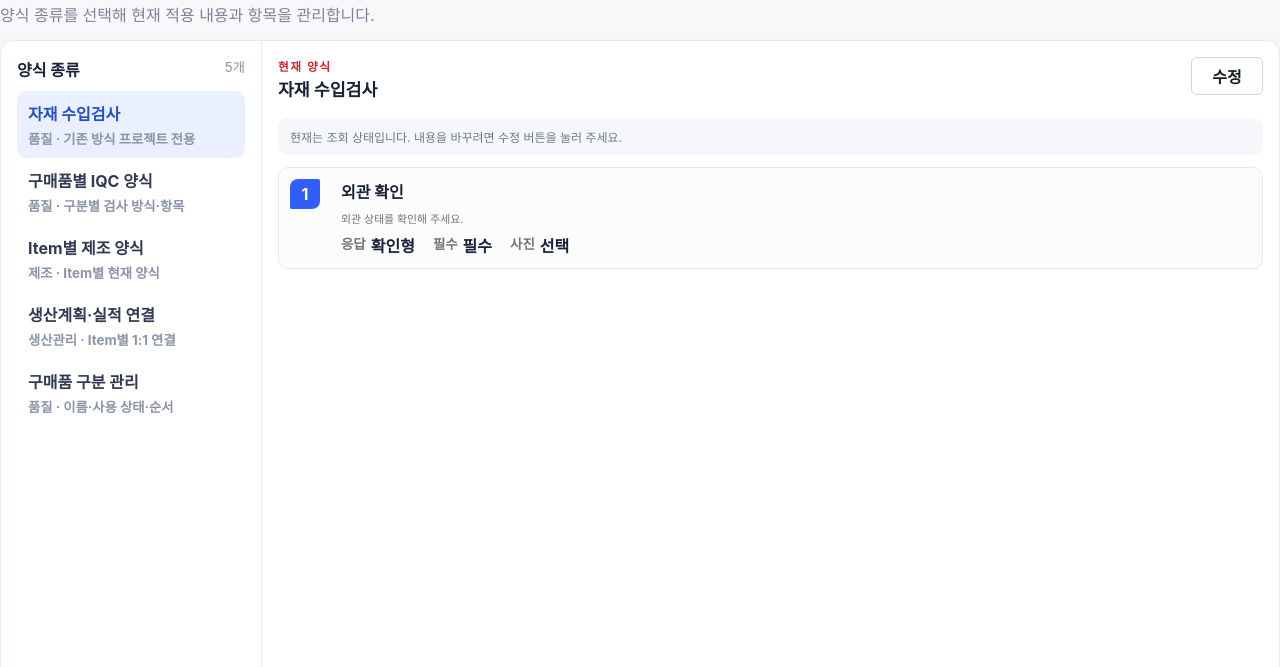
Test: FormTemplateManagementPage › edits one current production plan and matches each item to one result with a dropdown
This screenshot has width=1280, height=667.
Expected: the navigation bar "양식 종류" shows "Item별 제조 양식", [17, 225, 245, 292]
Click the button "생산계획·실적 연결 생산관리 · Item별 1:1 연결": (131, 325) [17, 292, 245, 359]
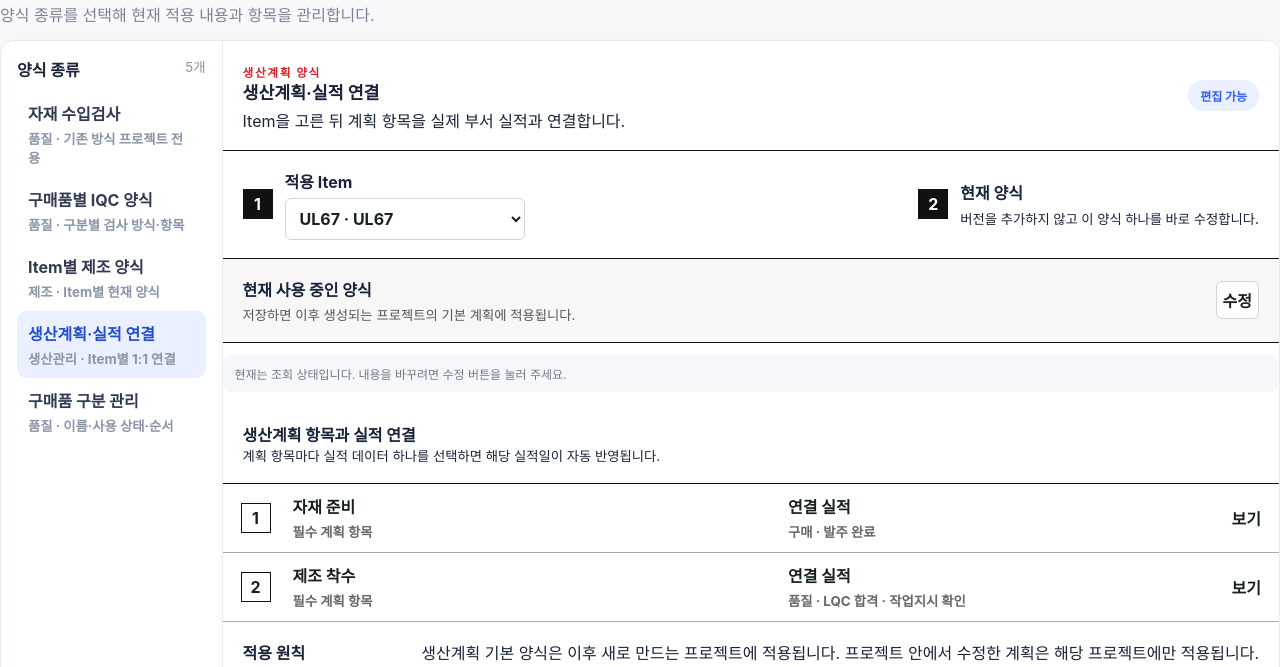
Now the dropdown labelled "적용 Item" shows "UL67 · UL67", box [284, 198, 524, 240]
Click the button "수정": (1237, 300) [1216, 281, 1259, 319]
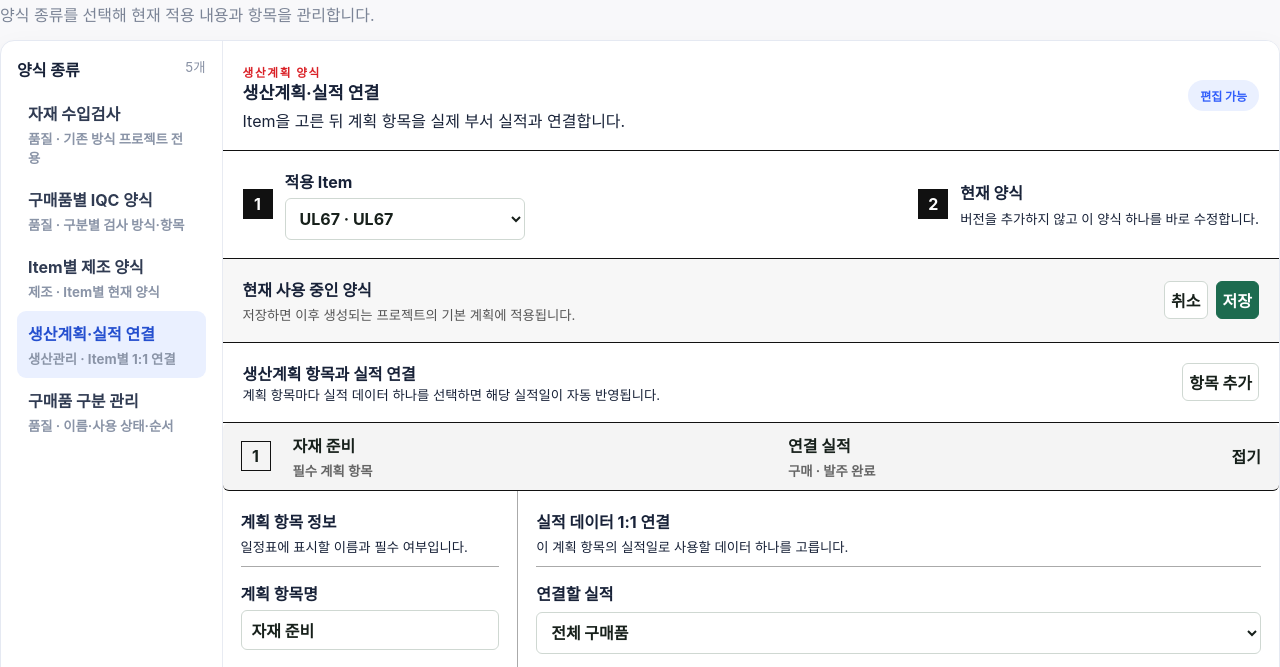
Now the field named "1번 계획 항목명" is enabled, box [240, 610, 499, 650]
Now the dropdown named "1번 연결할 실적" is enabled
Select "품질 · OQC 합격" in the dropdown named "1번 연결할 실적": (899, 633) [536, 612, 1261, 654]
(page scrolled)
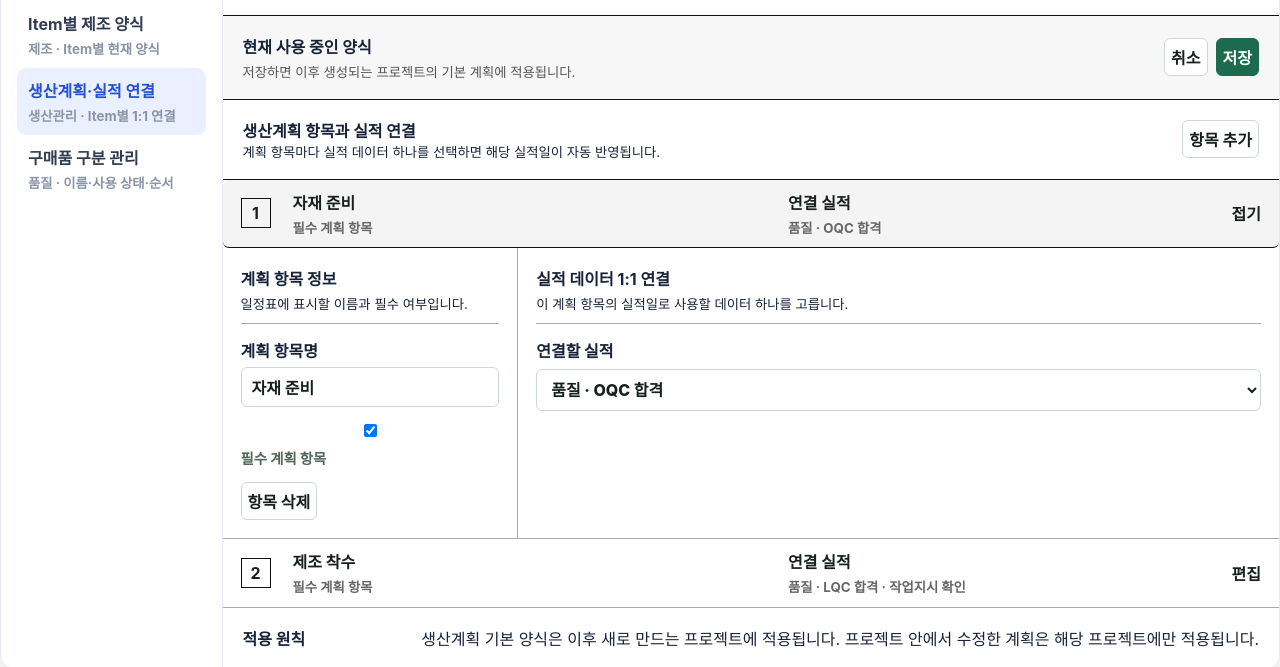
Click the button "2 제조 착수 필수 계획 항목 연결 실적 품질 · LQC 합격 · 작업지시 확인 편집": (324, 562) [222, 539, 1279, 607]
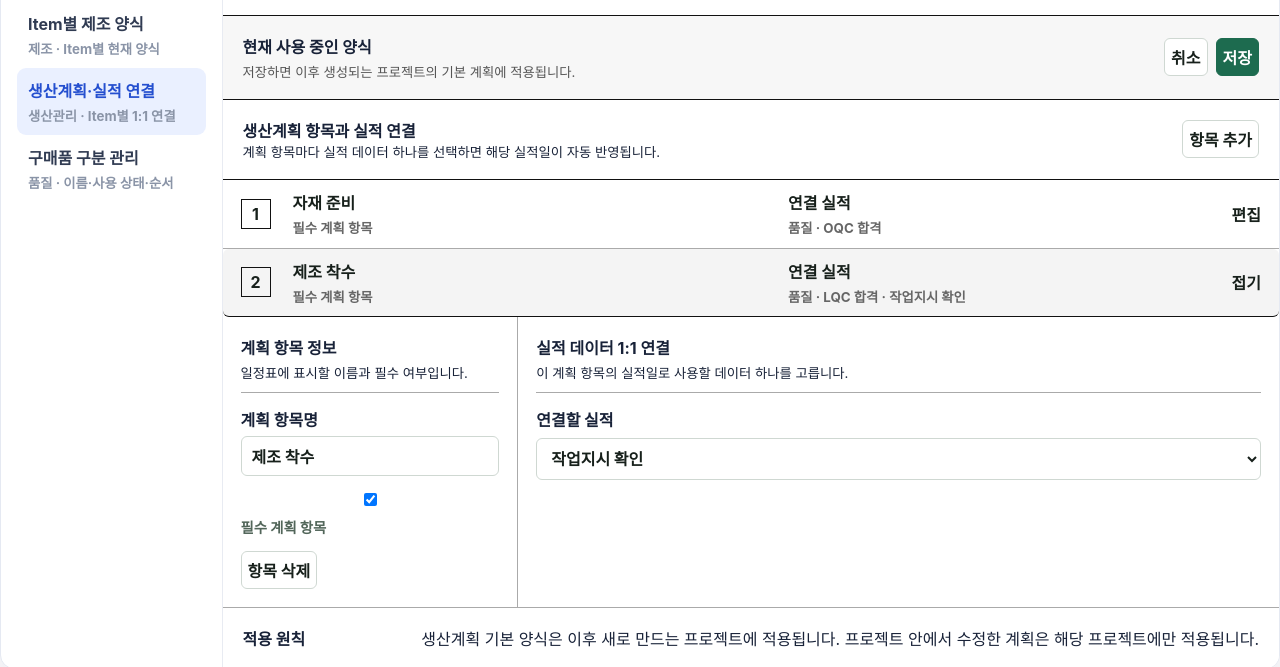
Now the field named "2번 계획 항목명" is enabled, box [240, 436, 499, 476]
Select "조립" in the dropdown named "2번 연결할 실적": (899, 459) [536, 438, 1261, 480]
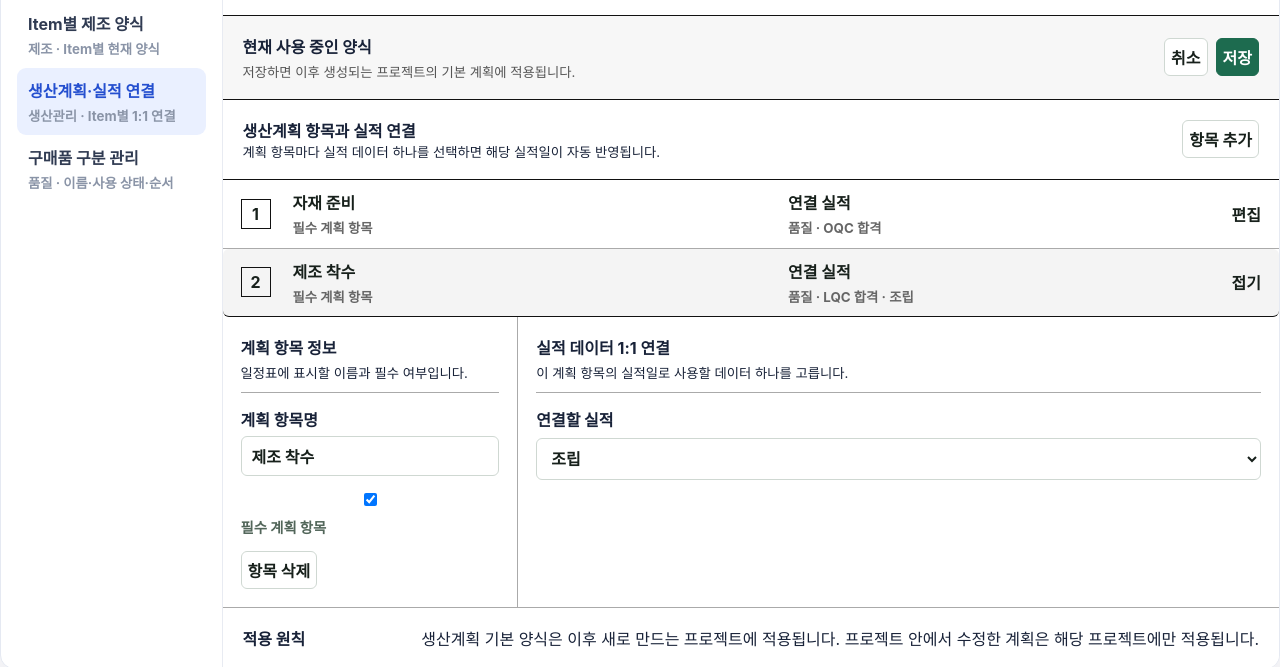
Click the button "저장": (1237, 57) [1216, 38, 1259, 76]
(page scrolled)
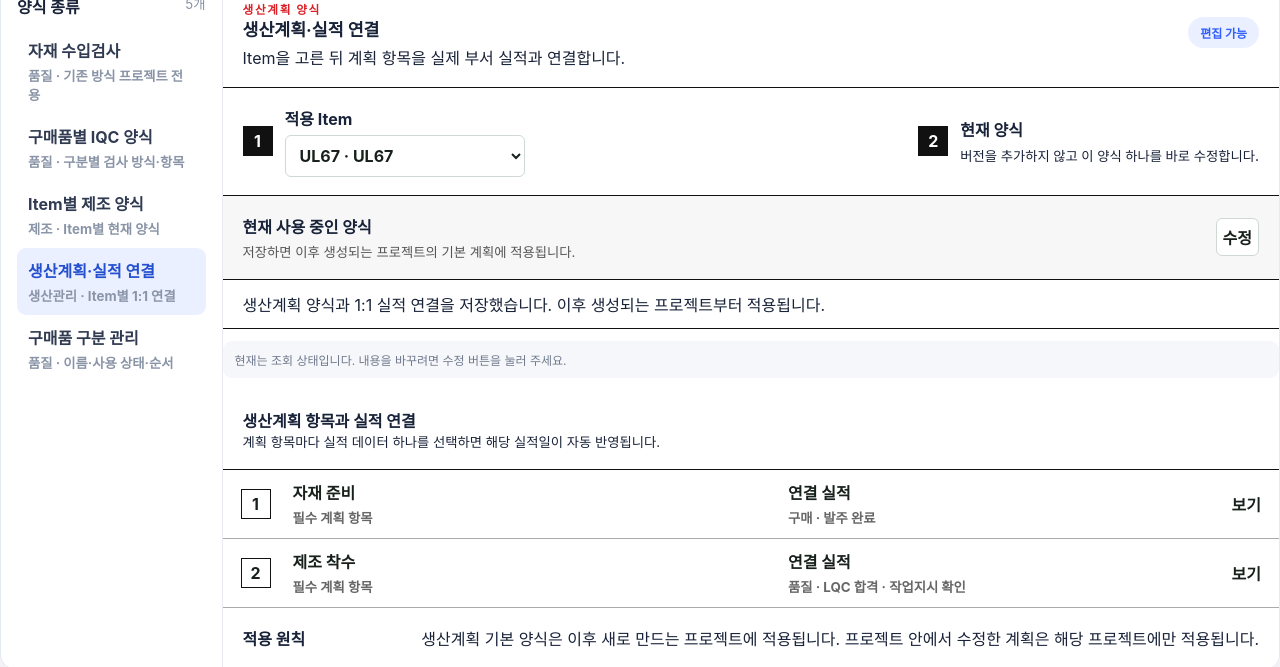
Now the text "생산계획 양식과 1:1 실적 연결을 저장했습니다. 이후 생성되는 프로젝트부터 적용됩니다." is shown, box [222, 280, 1279, 329]
